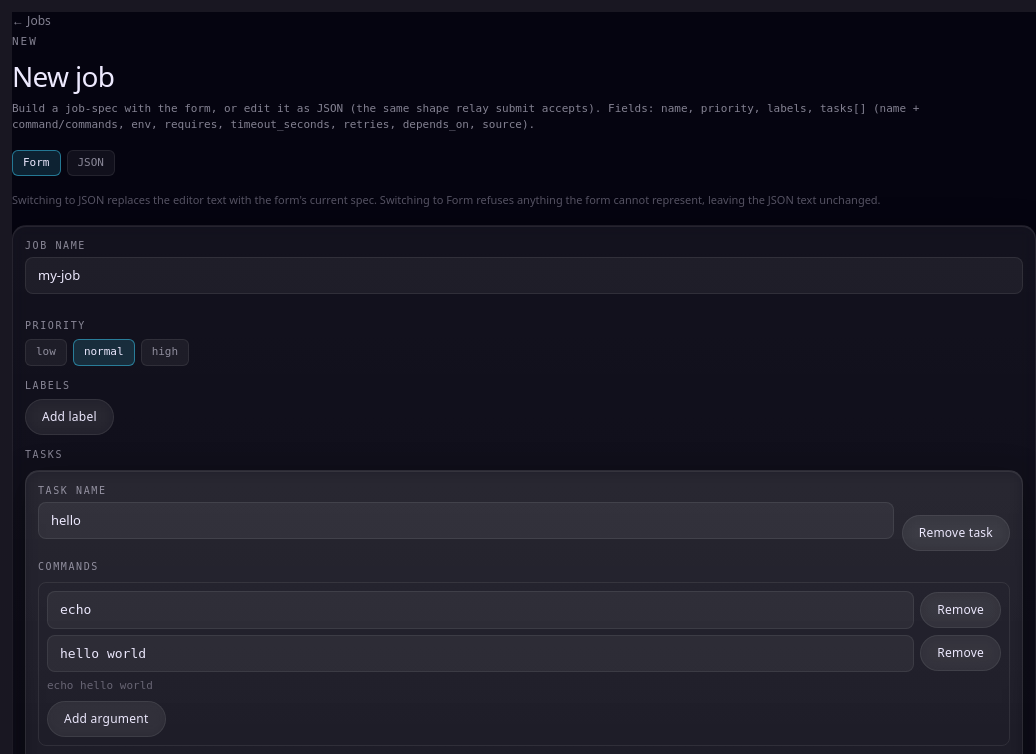
Test case: a command left with every argument blank shows a note that it is not submitted
Expected: the text "will not be submitted" is not shown
Clear the field named "Argument 1" at {"x": 481, "y": 610}, box x1=47 y1=591 x2=914 y2=628
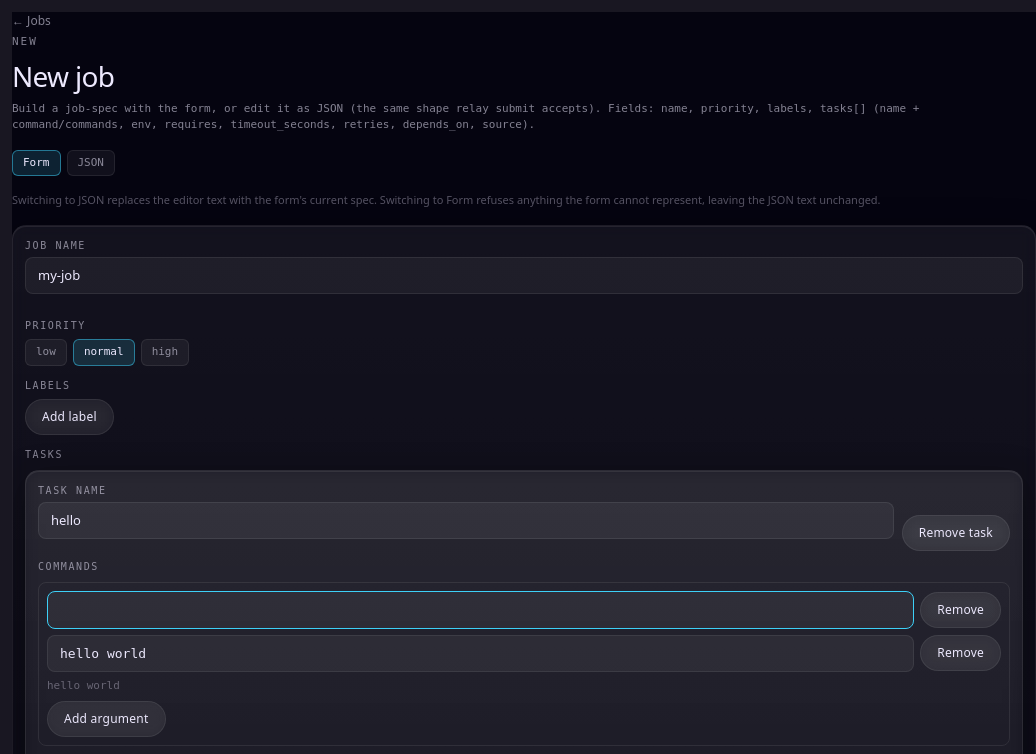
Clear the field named "Argument 2" at {"x": 481, "y": 653}, box x1=47 y1=634 x2=914 y2=672
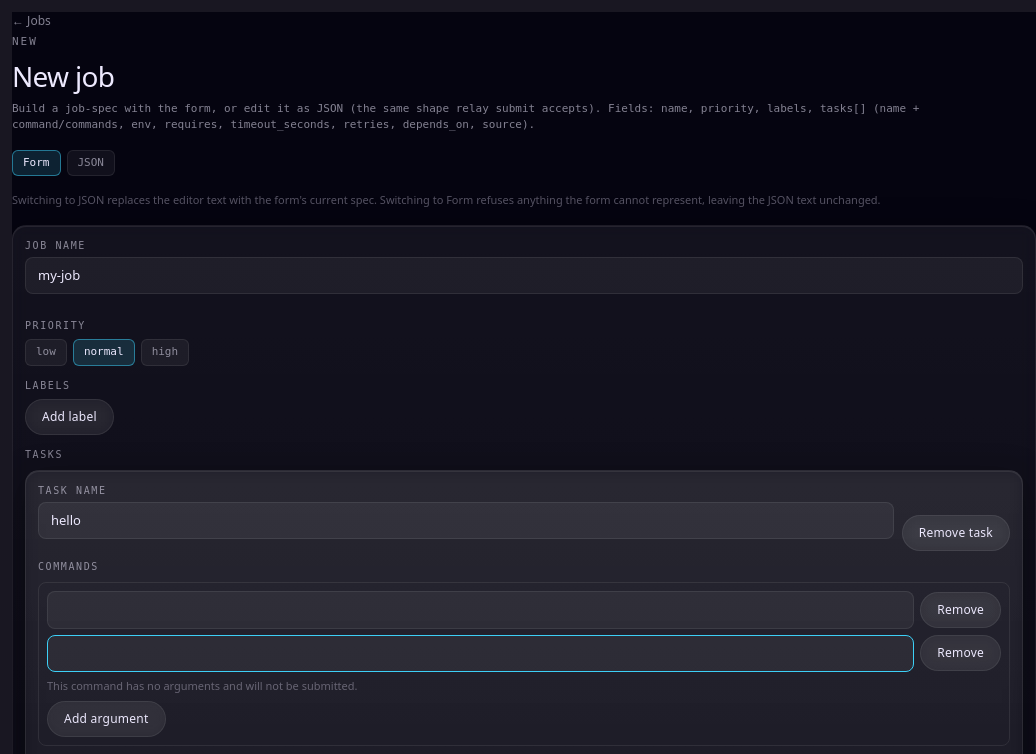
Expected: the text "This command has no arguments and will not be submitted." is shown, x1=47 y1=678 x2=358 y2=693
